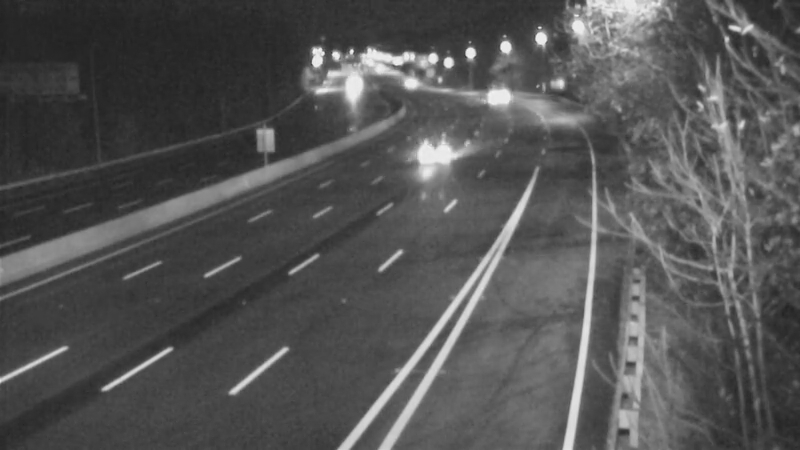vehicle: (385, 59, 435, 109), (468, 70, 518, 120), (419, 125, 469, 175), (329, 65, 379, 115)
